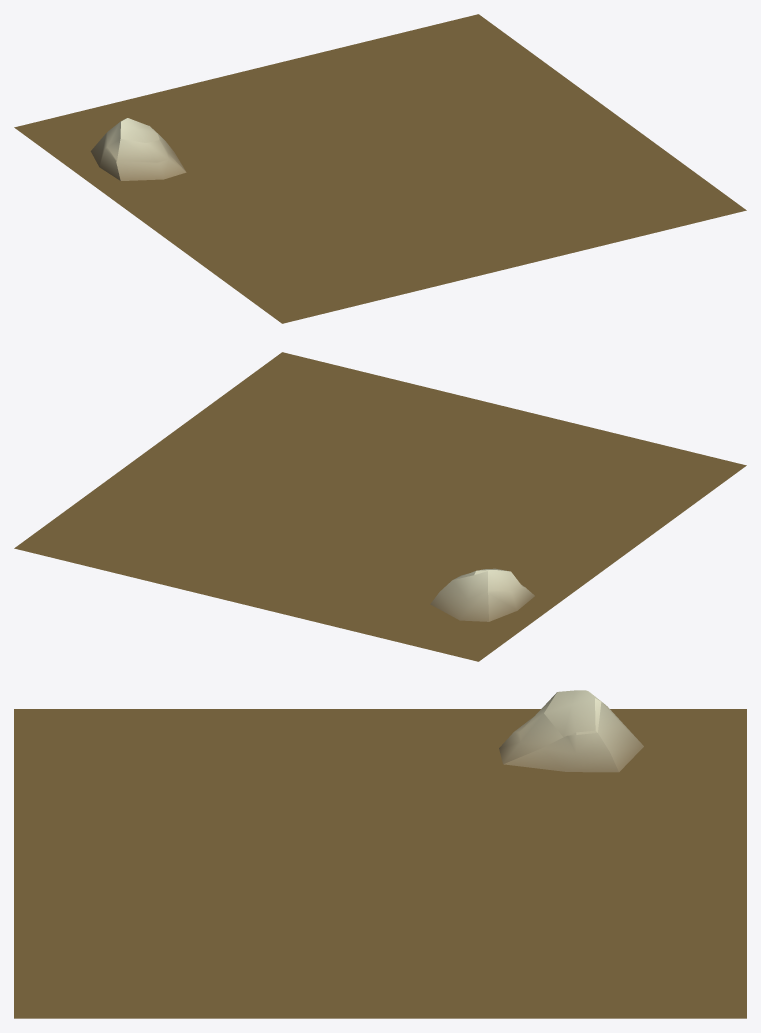
Rendered from ENV_GROUND.obj.
3 views of the same model, one above another, from view 1: azimuth 30°, elevation 25°; view 2: azimuth 150°, elevation 25°; view 3: azimuth 270°, elevation 25° (orthographic). The views are drawn at different scales.
Visible parts, largest first — view 1: ground, Box001; view 2: ground, Box001; view 3: ground, Box001.
Boxes of the visible parts, bbox=[...] form: ground: bbox=[14, 14, 746, 323]; Box001: bbox=[90, 118, 186, 180]; ground: bbox=[14, 352, 746, 661]; Box001: bbox=[430, 568, 534, 621]; ground: bbox=[14, 709, 746, 1018]; Box001: bbox=[499, 690, 643, 772].
Size of what is drawn, in the model's own units: 200 by 15.23 by 200.
Materials: 2 (1 with a texture image).
